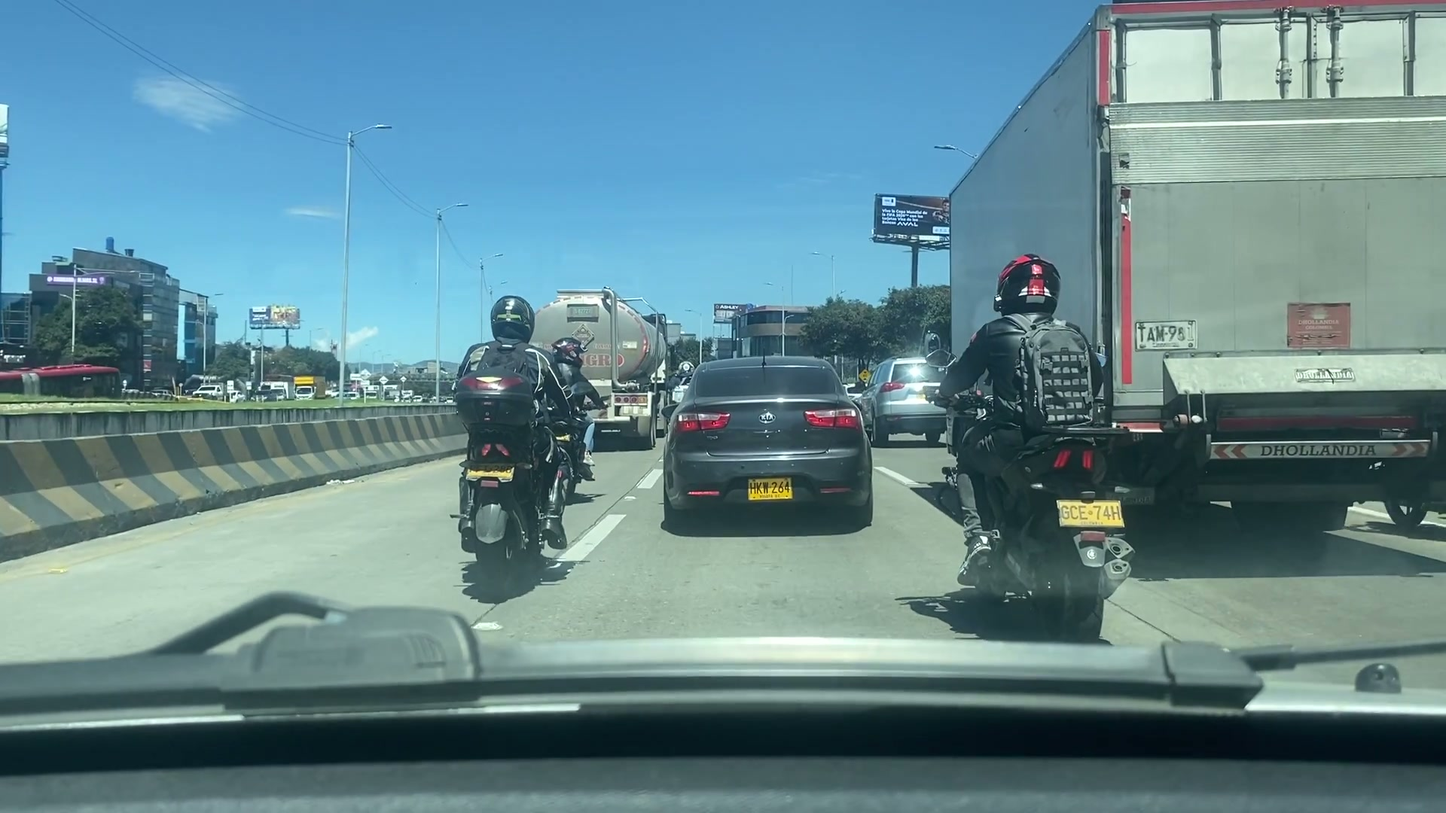car: (664, 353, 875, 526), (850, 350, 953, 441)
motorcycle: (923, 386, 1152, 638), (444, 431, 558, 581)
person: (936, 257, 1151, 584), (459, 291, 577, 552), (544, 332, 596, 479)
truck: (924, 0, 1441, 531), (529, 291, 672, 439)
